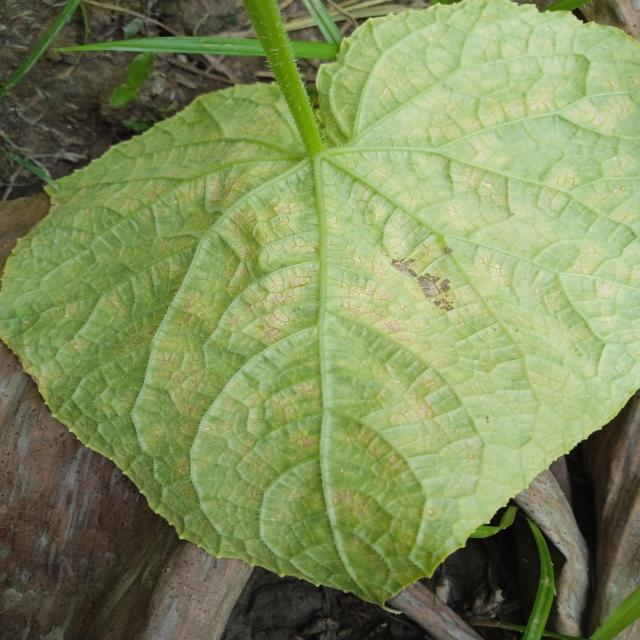cucumber_downy: (49, 176, 624, 559), (356, 37, 638, 160)
